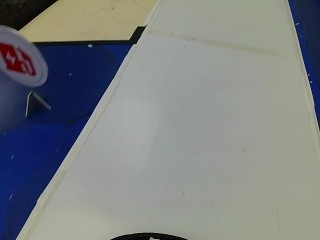battery: (0, 23, 49, 86)
